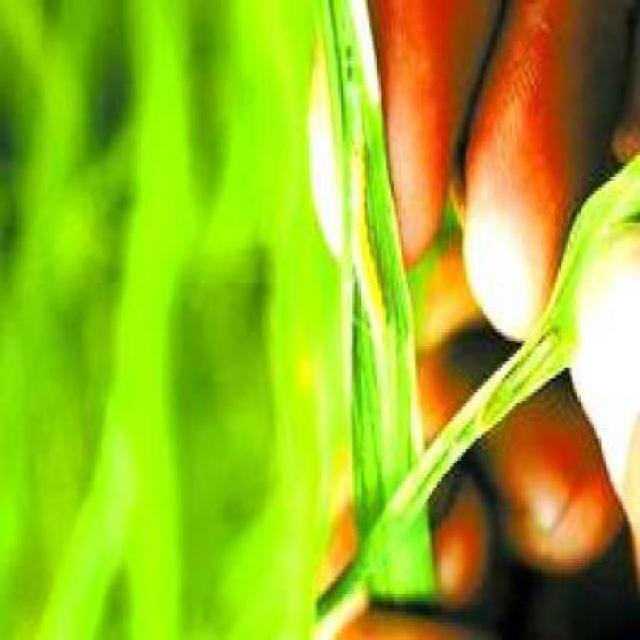leaf-folder: (321, 114, 414, 360), (460, 338, 597, 448)
